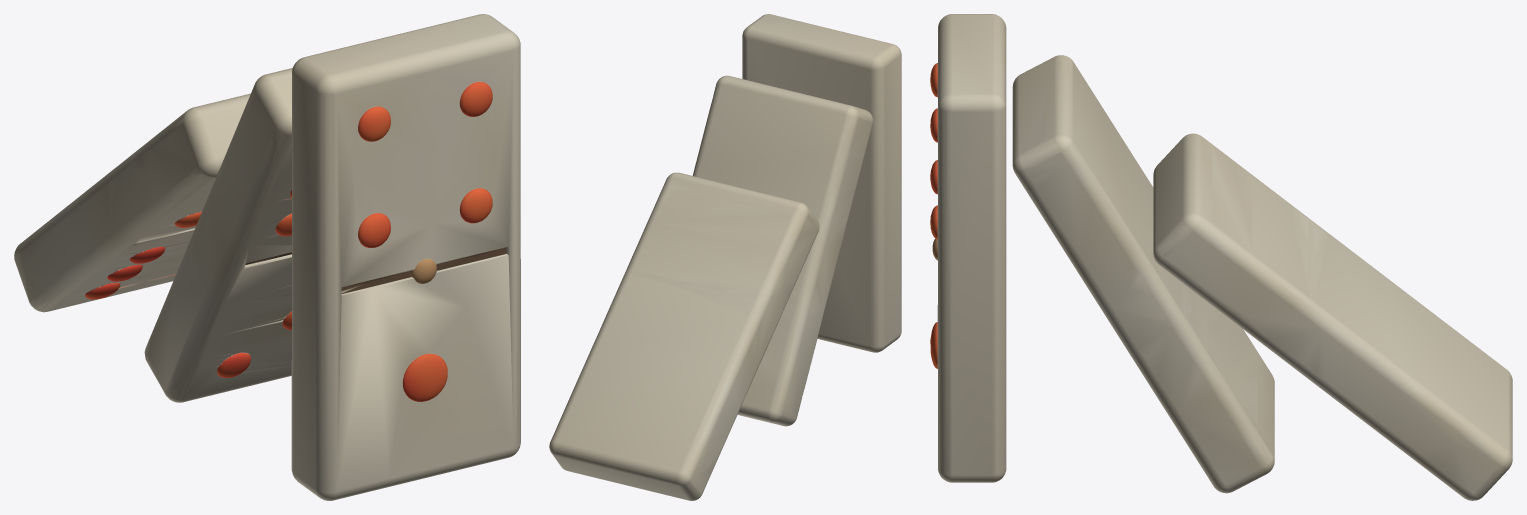
The model's file is domino-chain.glb.
3 renders of one model, left to right at view 1: azimuth 30°, elevation 25°; view 2: azimuth 150°, elevation 25°; view 3: azimuth 270°, elevation 25°, orthographic. The views are drawn at different scales.
Visible parts, largest first — view 1: domino_4_1, domino_6_3, domino_2_6; view 2: domino_2_6, domino_6_3, domino_4_1; view 3: domino_2_6, domino_6_3, domino_4_1.
Part boxes in pixels (x1,y1,x2,y2): domino_4_1: (291, 14, 520, 500); domino_6_3: (144, 68, 292, 402); domino_2_6: (14, 93, 250, 312); domino_2_6: (549, 172, 819, 500); domino_6_3: (692, 75, 872, 426); domino_4_1: (742, 14, 901, 352); domino_2_6: (1153, 133, 1512, 500); domino_6_3: (1012, 55, 1274, 493); domino_4_1: (930, 14, 1006, 482).
Size of the model in its own units: 2 by 4.19 by 5.44.
